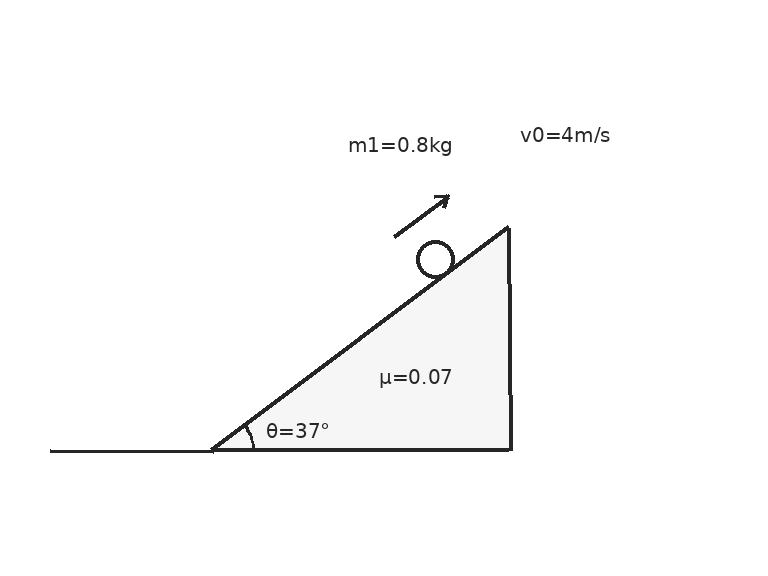ball: (414, 238, 456, 280)
ramp: (211, 225, 511, 452)
